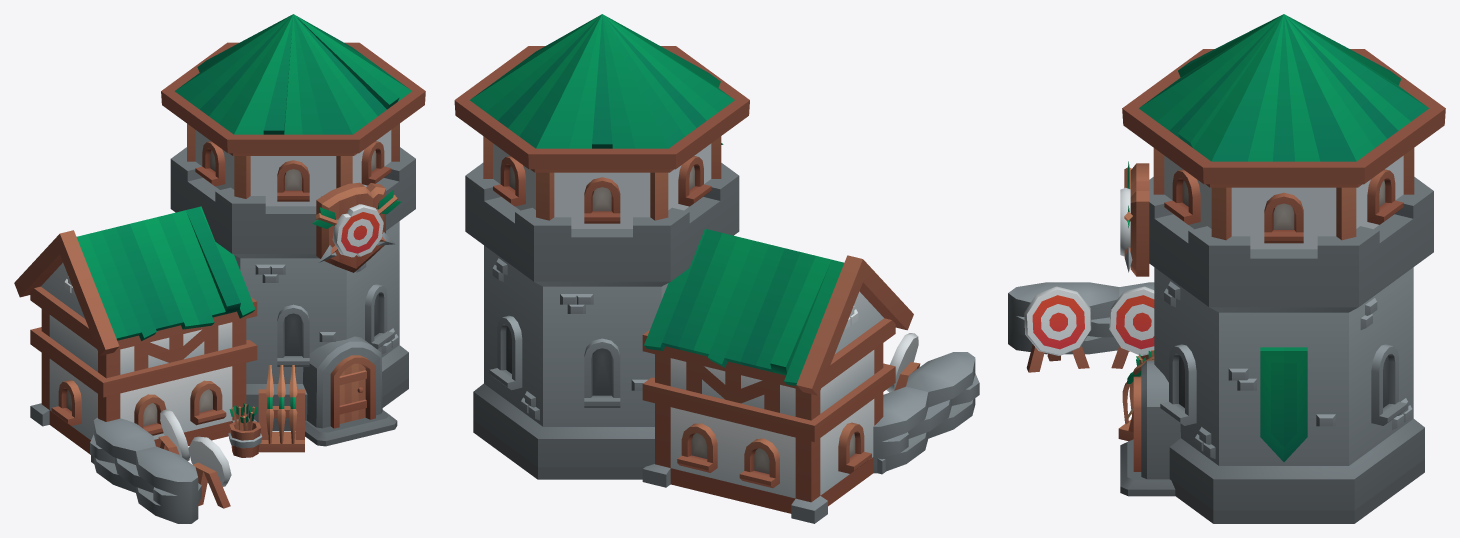
Rendered from building_archeryrange_green.glb.
3 renders of one model, left to right at view 1: azimuth 30°, elevation 25°; view 2: azimuth 150°, elevation 25°; view 3: azimuth 270°, elevation 25°, orthographic. The views are drawn at different scales.
Visible parts, largest first — view 1: building_archeryrange_green; view 2: building_archeryrange_green; view 3: building_archeryrange_green.
Part boxes in pixels (x1,y1,x2,y2): building_archeryrange_green: [14, 14, 425, 523]; building_archeryrange_green: [454, 14, 979, 523]; building_archeryrange_green: [1008, 14, 1445, 523].
Bounding box in the file's own units: 1.67 × 1.79 × 1.55.
Materials: 1 (1 with a texture image).
